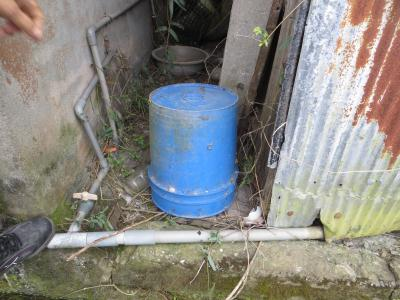bowl: (148, 43, 211, 79)
bucket: (144, 80, 243, 222)
